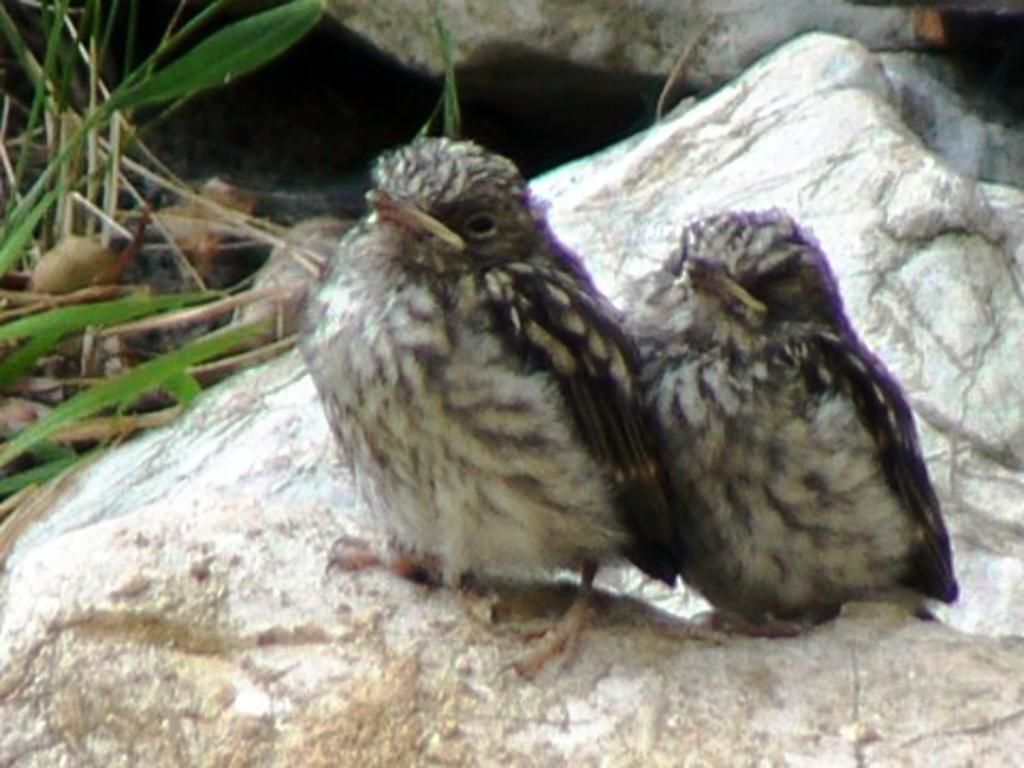Owl: (286, 130, 693, 616), (584, 212, 984, 632)
